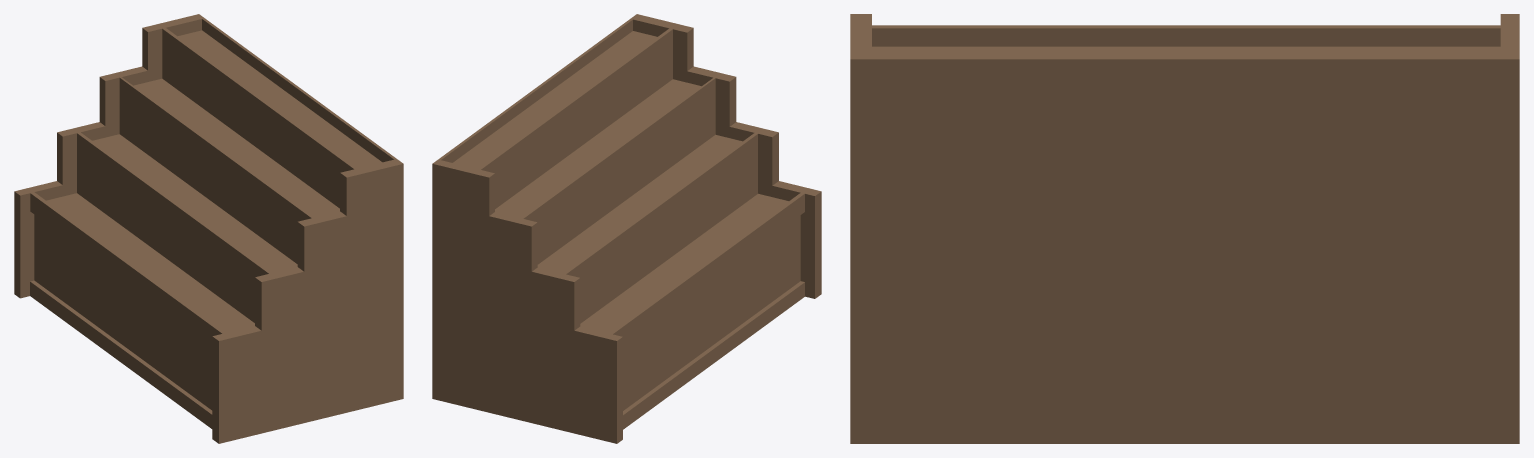
The model's file is display.fbx.
The picture shows the model from 3 angles, left to right: view 1: azimuth 30°, elevation 25°; view 2: azimuth 150°, elevation 25°; view 3: azimuth 270°, elevation 25°; orthographic projection. The views are drawn at different scales.
Visible parts, largest first — view 1: pasted__display; view 2: pasted__display; view 3: pasted__display.
Part boxes in pixels (left/top/right/bottom): pasted__display: left=14, top=14, right=403, bottom=443; pasted__display: left=432, top=14, right=821, bottom=443; pasted__display: left=850, top=14, right=1519, bottom=443.
Size of the model in its own units: 4.93 by 6 by 9.46.
